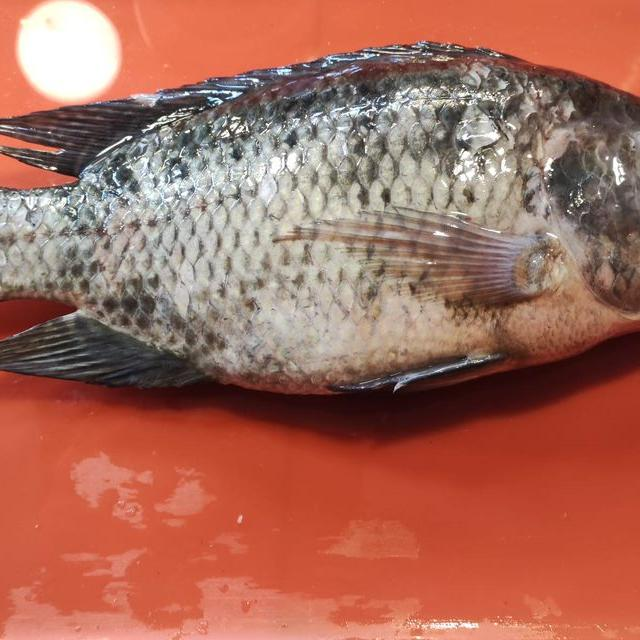fish: (0, 46, 640, 400)
